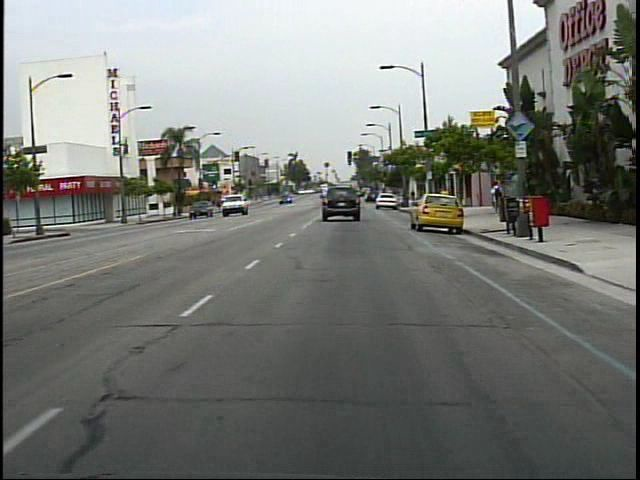person: (483, 178, 507, 220)
